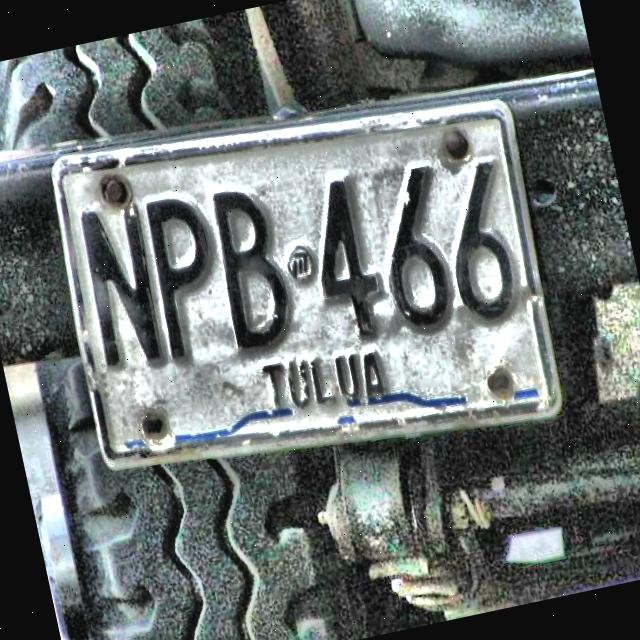plate: (57, 109, 557, 462)
